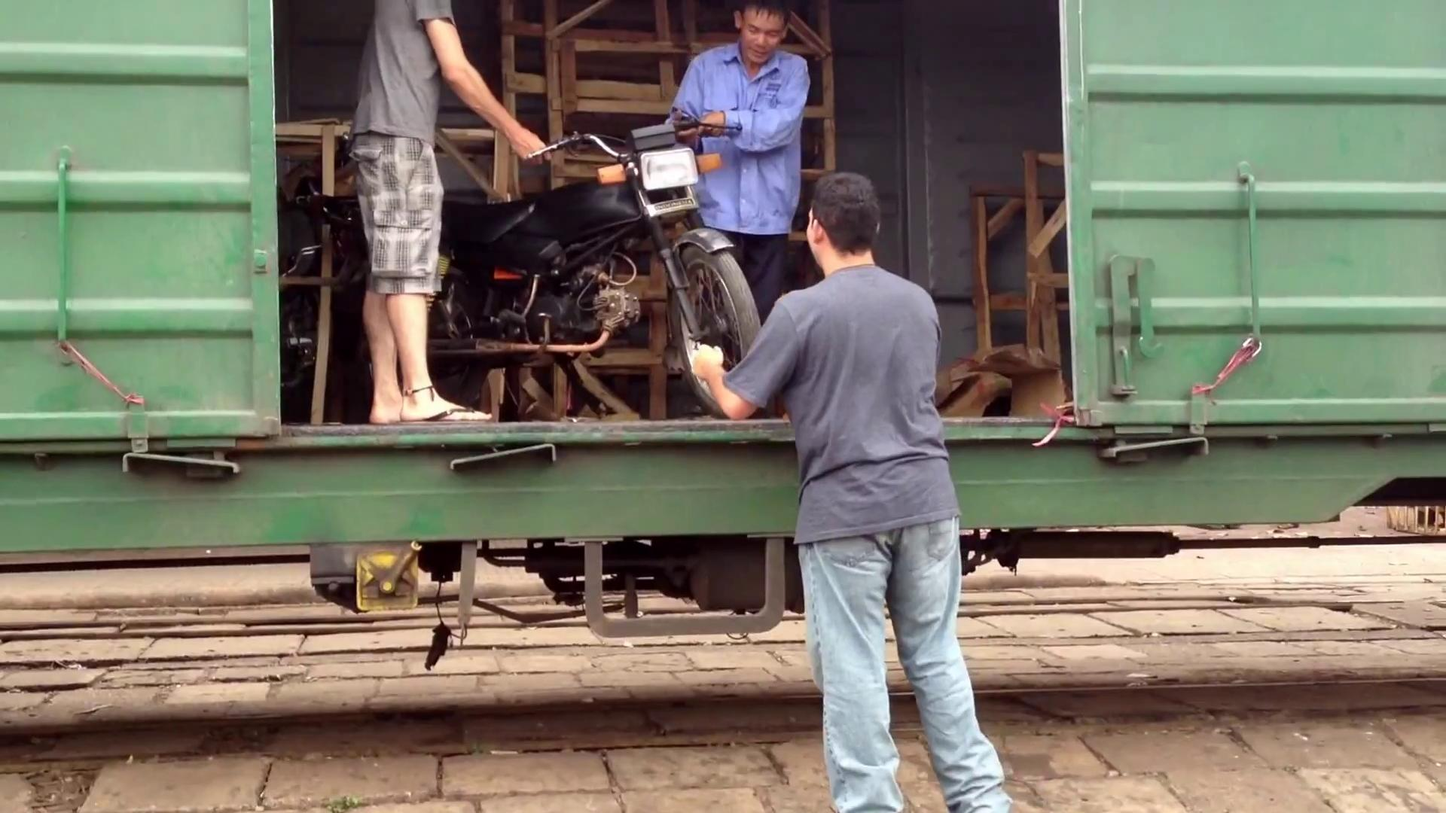victim: (680, 168, 1030, 810), (350, 0, 561, 434), (660, 4, 813, 387)
